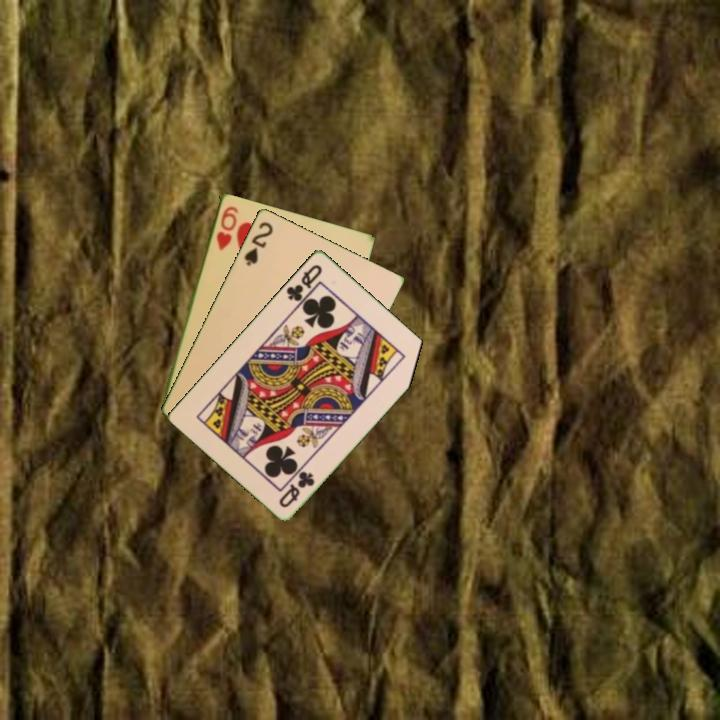2s: (240, 218, 276, 268)
6h: (212, 202, 241, 253)
Qc: (283, 261, 325, 304), (275, 467, 317, 510)
